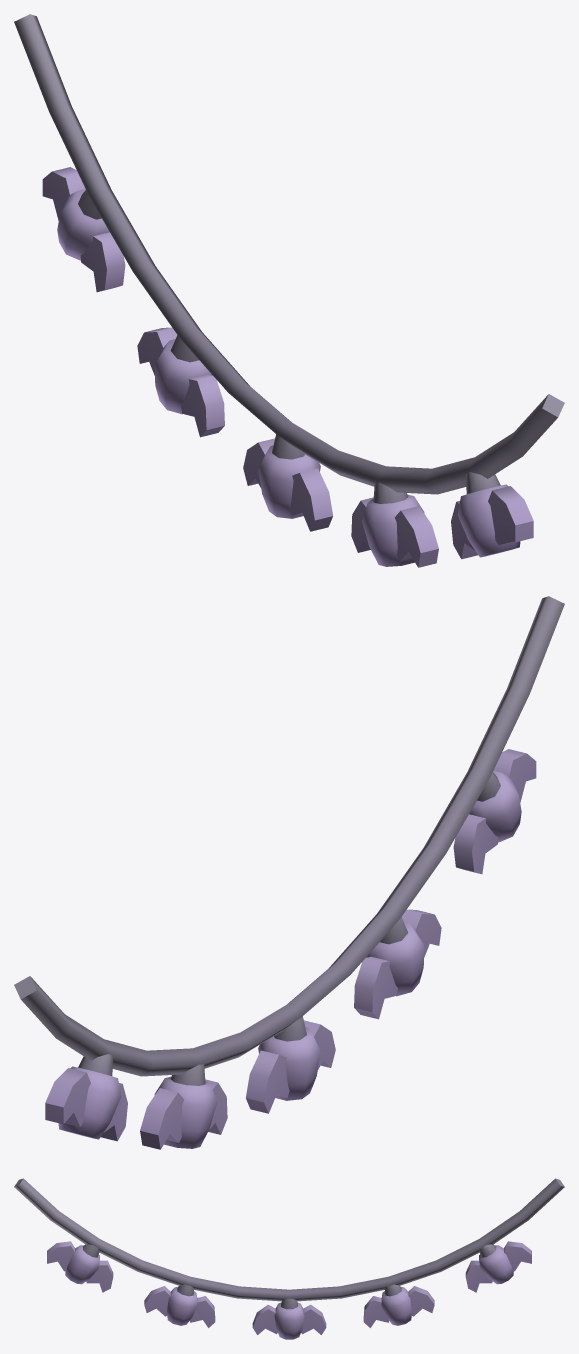
Rendered from lights-fairy-bats (%wall).glb.
3 views of the same model, one above another, from view 1: azimuth 30°, elevation 25°; view 2: azimuth 150°, elevation 25°; view 3: azimuth 270°, elevation 25° (orthographic). The views are drawn at different scales.
Parts seen in each view (by area): view 1: lights-fairy-bats (%wall); view 2: lights-fairy-bats (%wall); view 3: lights-fairy-bats (%wall).
Part boxes in pixels (bbox=[...]): lights-fairy-bats (%wall): bbox=[14, 14, 564, 567]; lights-fairy-bats (%wall): bbox=[14, 596, 564, 1149]; lights-fairy-bats (%wall): bbox=[14, 1178, 564, 1339].
Size of the model in its own units: 0.0554 by 0.3199 by 1.02.
